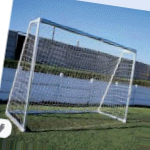goals: (7, 17, 136, 135)
